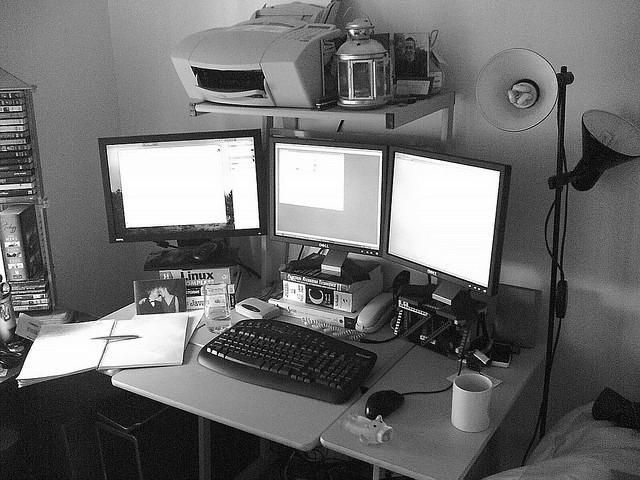glass: (452, 370, 500, 432), (201, 285, 233, 331)
